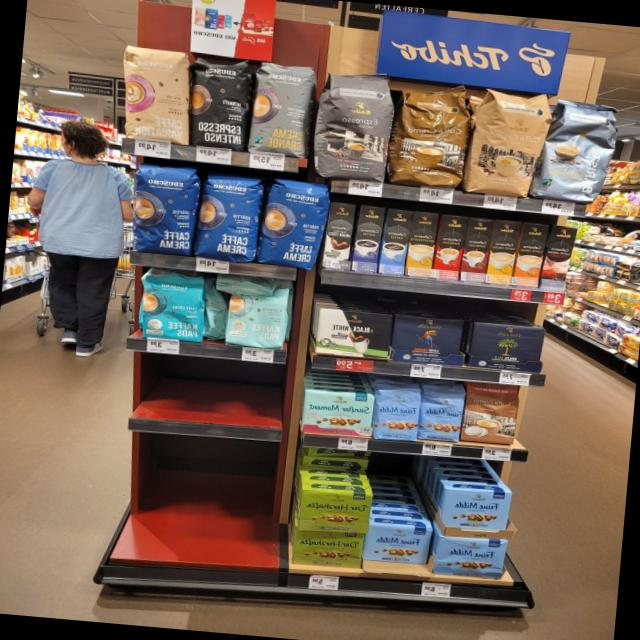BM Gemahlen: (467, 320, 545, 374)
BW Gemahlen: (312, 307, 394, 359)
Barista CC: (534, 97, 626, 203)
CC Mild: (468, 88, 553, 198)
CC Vollmundig: (458, 380, 522, 446)
CC Vollmundig 36 Pads: (390, 78, 474, 190)
Espresso Aromatisch: (309, 64, 396, 182)
FM Bohne: (414, 378, 466, 444), (369, 381, 422, 444)
FM Gemahlen: (440, 487, 513, 537), (431, 535, 510, 580), (361, 522, 433, 565)
Herzhatfe Mundig: (297, 486, 373, 533), (289, 530, 366, 568)
LG Gemahlen: (387, 312, 465, 366)
SM Gemahlen: (302, 388, 374, 440)
Simo CC Colombia: (539, 222, 580, 292)
Simo CCMild bigpack: (485, 218, 523, 287)
Simo CCVollmundig bigpack: (511, 221, 550, 289)
Simo Decaff: (402, 209, 440, 278)
Simo Es Elegant: (430, 212, 469, 281)
Simo Es Kraft: (457, 216, 496, 286)
Simo Kaffee BW: (319, 201, 357, 271)
Simo Kaffee Kraft: (349, 203, 387, 273)
Simo Kaffee Mild: (377, 207, 413, 276)
